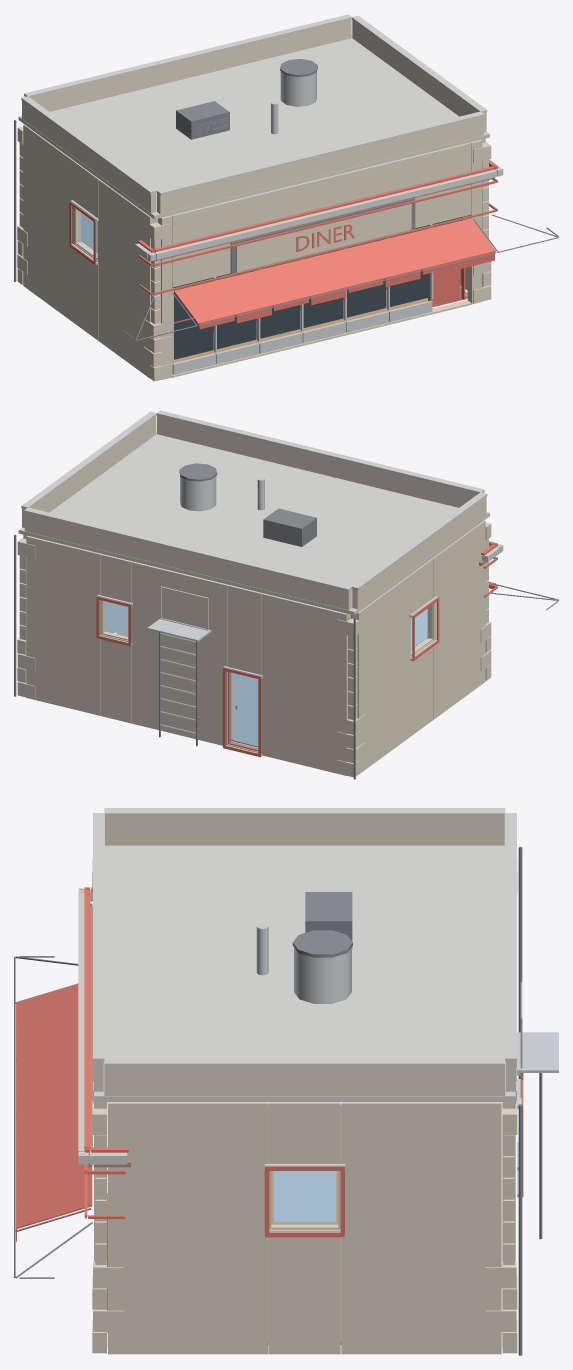
Rendered from Store_Diner.fbx.
The picture shows the model from 3 angles, top to bottom: view 1: azimuth 30°, elevation 25°; view 2: azimuth 150°, elevation 25°; view 3: azimuth 270°, elevation 25°; orthographic projection. The views are drawn at different scales.
Visible parts, largest first — view 1: LOD0; view 2: LOD0; view 3: LOD0.
Boxes of the visible parts, bbox=[...] form: LOD0: bbox=[14, 14, 558, 381]; LOD0: bbox=[14, 410, 558, 779]; LOD0: bbox=[14, 808, 558, 1355].
Size of what is drawn, in the model's own units: 1266 by 592 by 905.
